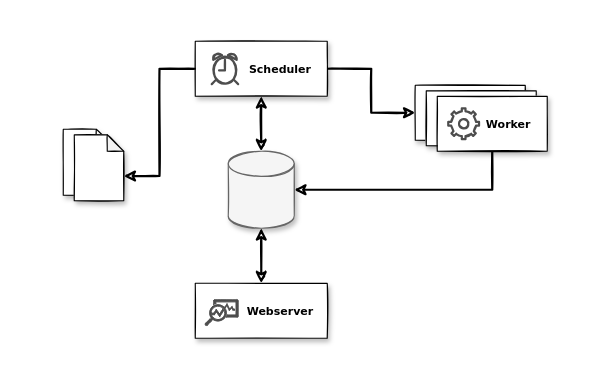
This 609x378 diagram has some shape labels left out. Each missing label, with the centre of its shape:
"DAGs" belongs at pixel 99 168.
"Meta DB" belongs at pixel 262 191.
